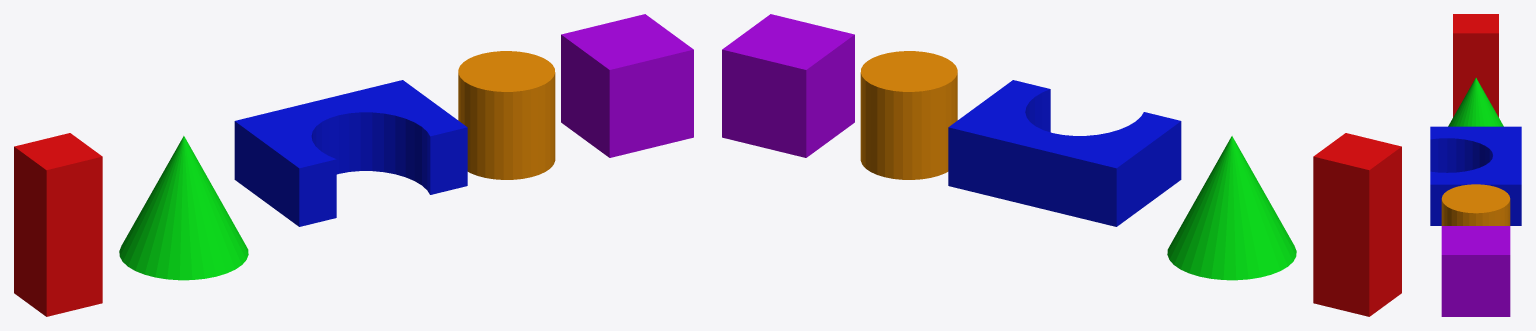
The model's file is Figuras_armables.fbx.
3 renders of one model, left to right at view 1: azimuth 30°, elevation 25°; view 2: azimuth 150°, elevation 25°; view 3: azimuth 270°, elevation 25°, orthographic. The views are drawn at different scales.
Parts seen in each view (by area): view 1: Puente_Juguete, Cubo_Juguete, Rectangulo_Juguete, Cilindro_juguete, Cono_Juguete; view 2: Puente_Juguete, Cubo_Juguete, Rectangulo_Juguete, Cilindro_juguete, Cono_Juguete; view 3: Puente_Juguete, Cubo_Juguete, Rectangulo_Juguete, Cilindro_juguete, Cono_Juguete.
Part boxes in pixels (x1,y1,x2,y2): Puente_Juguete: [234, 80, 467, 226]; Cubo_Juguete: [561, 14, 693, 157]; Rectangulo_Juguete: [14, 133, 102, 316]; Cilindro_juguete: [458, 51, 555, 179]; Cono_Juguete: [119, 136, 248, 280]; Puente_Juguete: [948, 80, 1181, 226]; Cubo_Juguete: [722, 14, 854, 157]; Rectangulo_Juguete: [1313, 133, 1401, 316]; Cilindro_juguete: [860, 51, 957, 179]; Cono_Juguete: [1167, 136, 1296, 280]; Puente_Juguete: [1430, 126, 1521, 225]; Cubo_Juguete: [1441, 226, 1510, 316]; Rectangulo_Juguete: [1453, 14, 1498, 117]; Cilindro_juguete: [1441, 184, 1510, 225]; Cono_Juguete: [1448, 78, 1503, 126].
Size of the model in its own units: 228 by 50 by 40.
